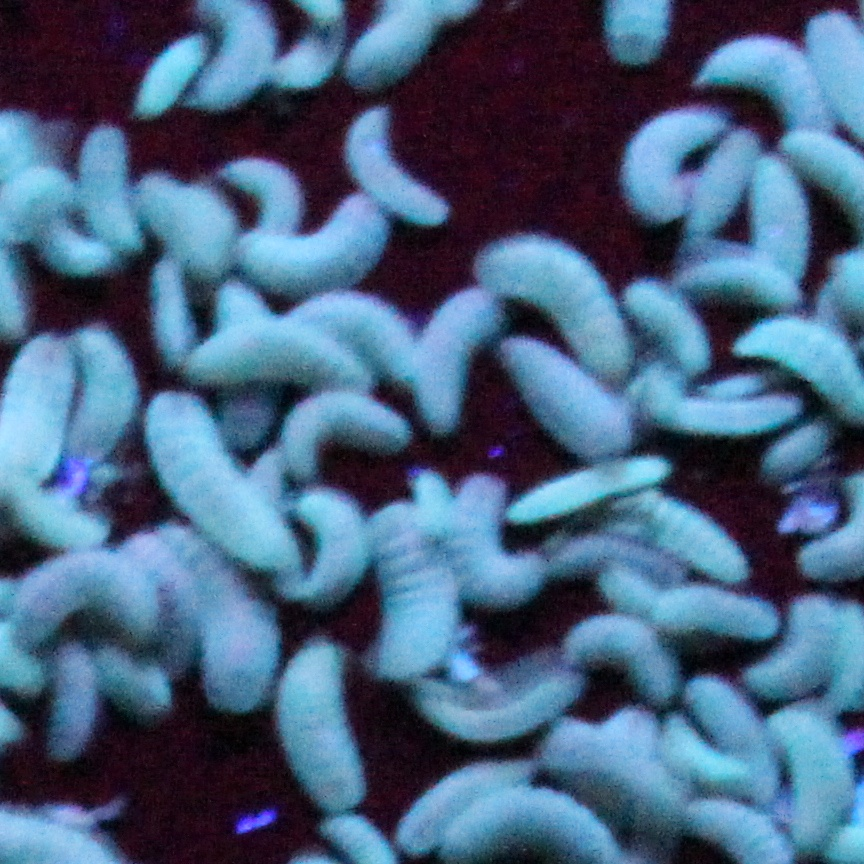larve: (285, 644, 350, 818), (445, 802, 615, 864), (342, 8, 480, 82), (373, 522, 440, 671), (202, 324, 357, 384), (785, 698, 846, 845), (452, 488, 520, 617), (622, 91, 687, 225), (203, 595, 275, 712), (285, 400, 410, 467), (492, 244, 607, 315), (723, 39, 819, 124), (335, 101, 425, 190), (417, 681, 562, 735), (26, 555, 146, 619), (292, 494, 360, 605), (170, 429, 243, 528), (146, 168, 227, 257), (82, 131, 142, 249), (246, 231, 365, 290), (73, 338, 127, 464), (429, 290, 476, 429), (242, 151, 329, 225), (666, 504, 750, 578), (570, 619, 656, 688), (776, 318, 853, 394), (142, 261, 196, 367), (203, 11, 262, 107), (522, 457, 657, 497), (640, 272, 700, 362), (106, 642, 166, 732), (653, 398, 779, 440), (660, 588, 772, 634), (529, 365, 593, 445), (753, 167, 806, 261), (47, 649, 93, 754), (697, 144, 753, 229), (779, 594, 832, 681), (7, 504, 110, 541), (545, 532, 650, 568), (605, 4, 669, 62), (666, 722, 727, 781), (289, 4, 332, 85), (372, 305, 412, 381), (717, 265, 799, 301), (146, 37, 192, 95), (769, 444, 827, 474)
